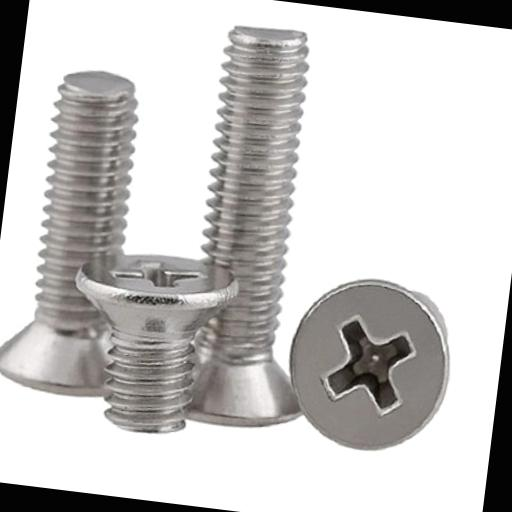Phillips: (278, 270, 456, 460)
